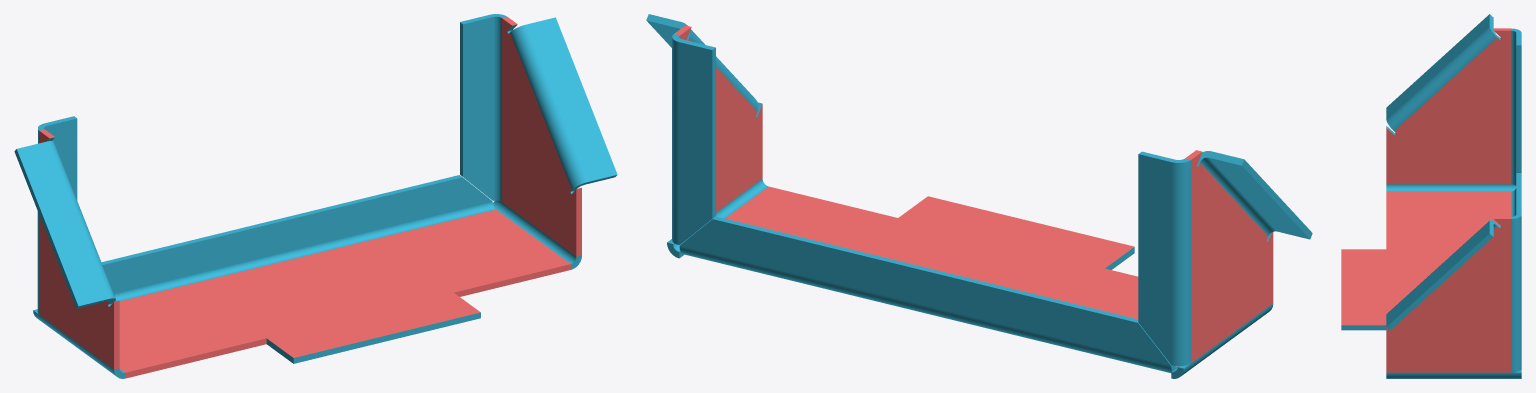
The picture shows the model from 3 angles, left to right: view 1: azimuth 30°, elevation 25°; view 2: azimuth 150°, elevation 25°; view 3: azimuth 270°, elevation 25°; orthographic projection. The views are drawn at different scales.
Parts seen in each view (by area): view 1: Part2; view 2: Part2; view 3: Part2.
Boxes of the visible parts, x1,y1,x2,y2 form: Part2: [14, 14, 617, 378]; Part2: [646, 14, 1312, 378]; Part2: [1341, 14, 1521, 378].
Size of the model in its own units: 0.288 by 0.1 by 0.1.
